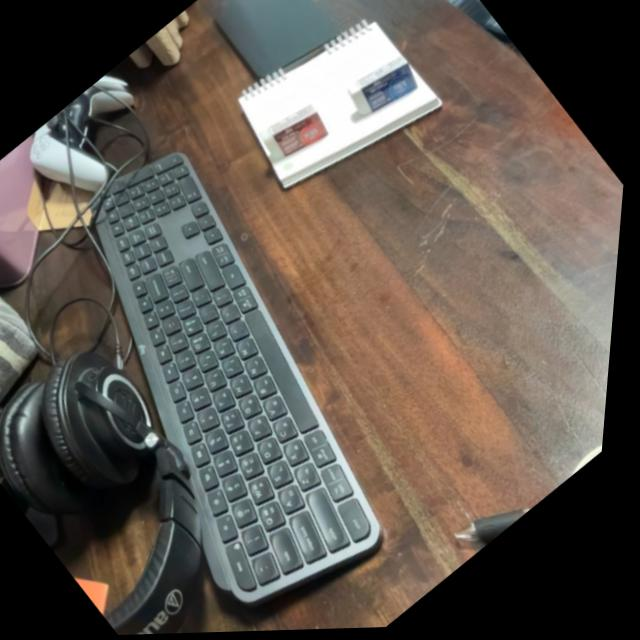blue: (337, 43, 434, 133)
red: (253, 93, 341, 177)
